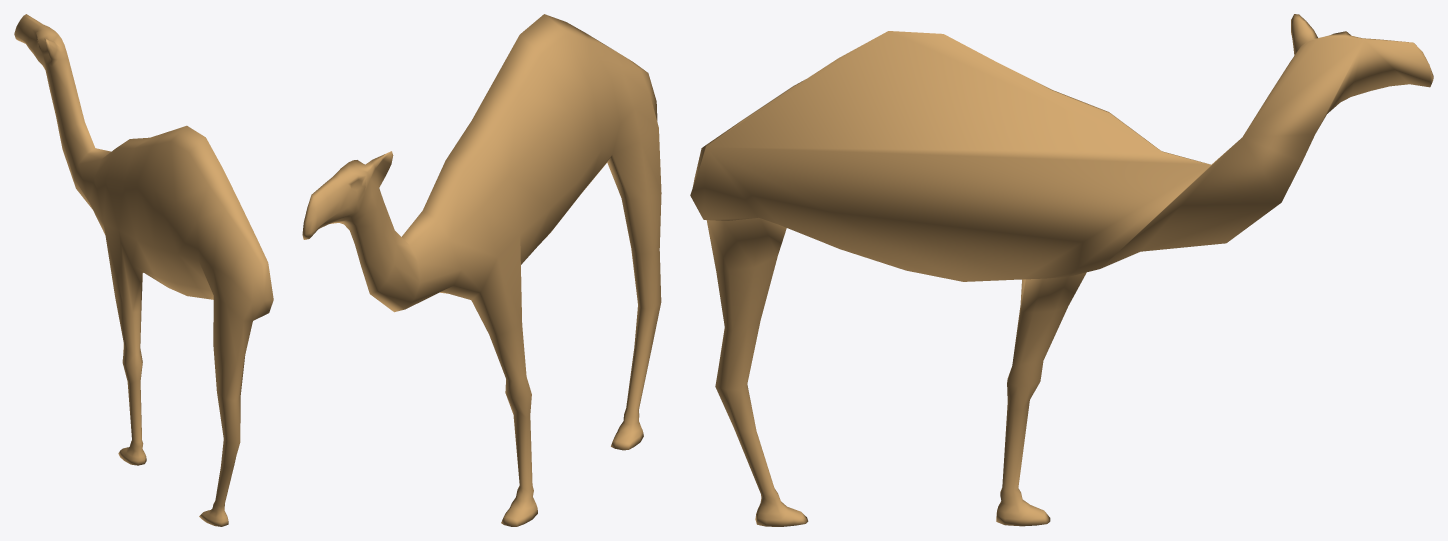
Rendered from chameau.glb.
3 renders of one model, left to right at view 1: azimuth 30°, elevation 25°; view 2: azimuth 150°, elevation 25°; view 3: azimuth 270°, elevation 25°, orthographic. The views are drawn at different scales.
Visible parts, largest first — view 1: basemesh; view 2: basemesh; view 3: basemesh.
Part boxes in pixels (x1,y1,x2,y2): basemesh: [14, 14, 273, 526]; basemesh: [302, 14, 661, 526]; basemesh: [690, 14, 1433, 526].
Bounding box in the file's own units: 0.2013 × 1.72 × 2.26.
